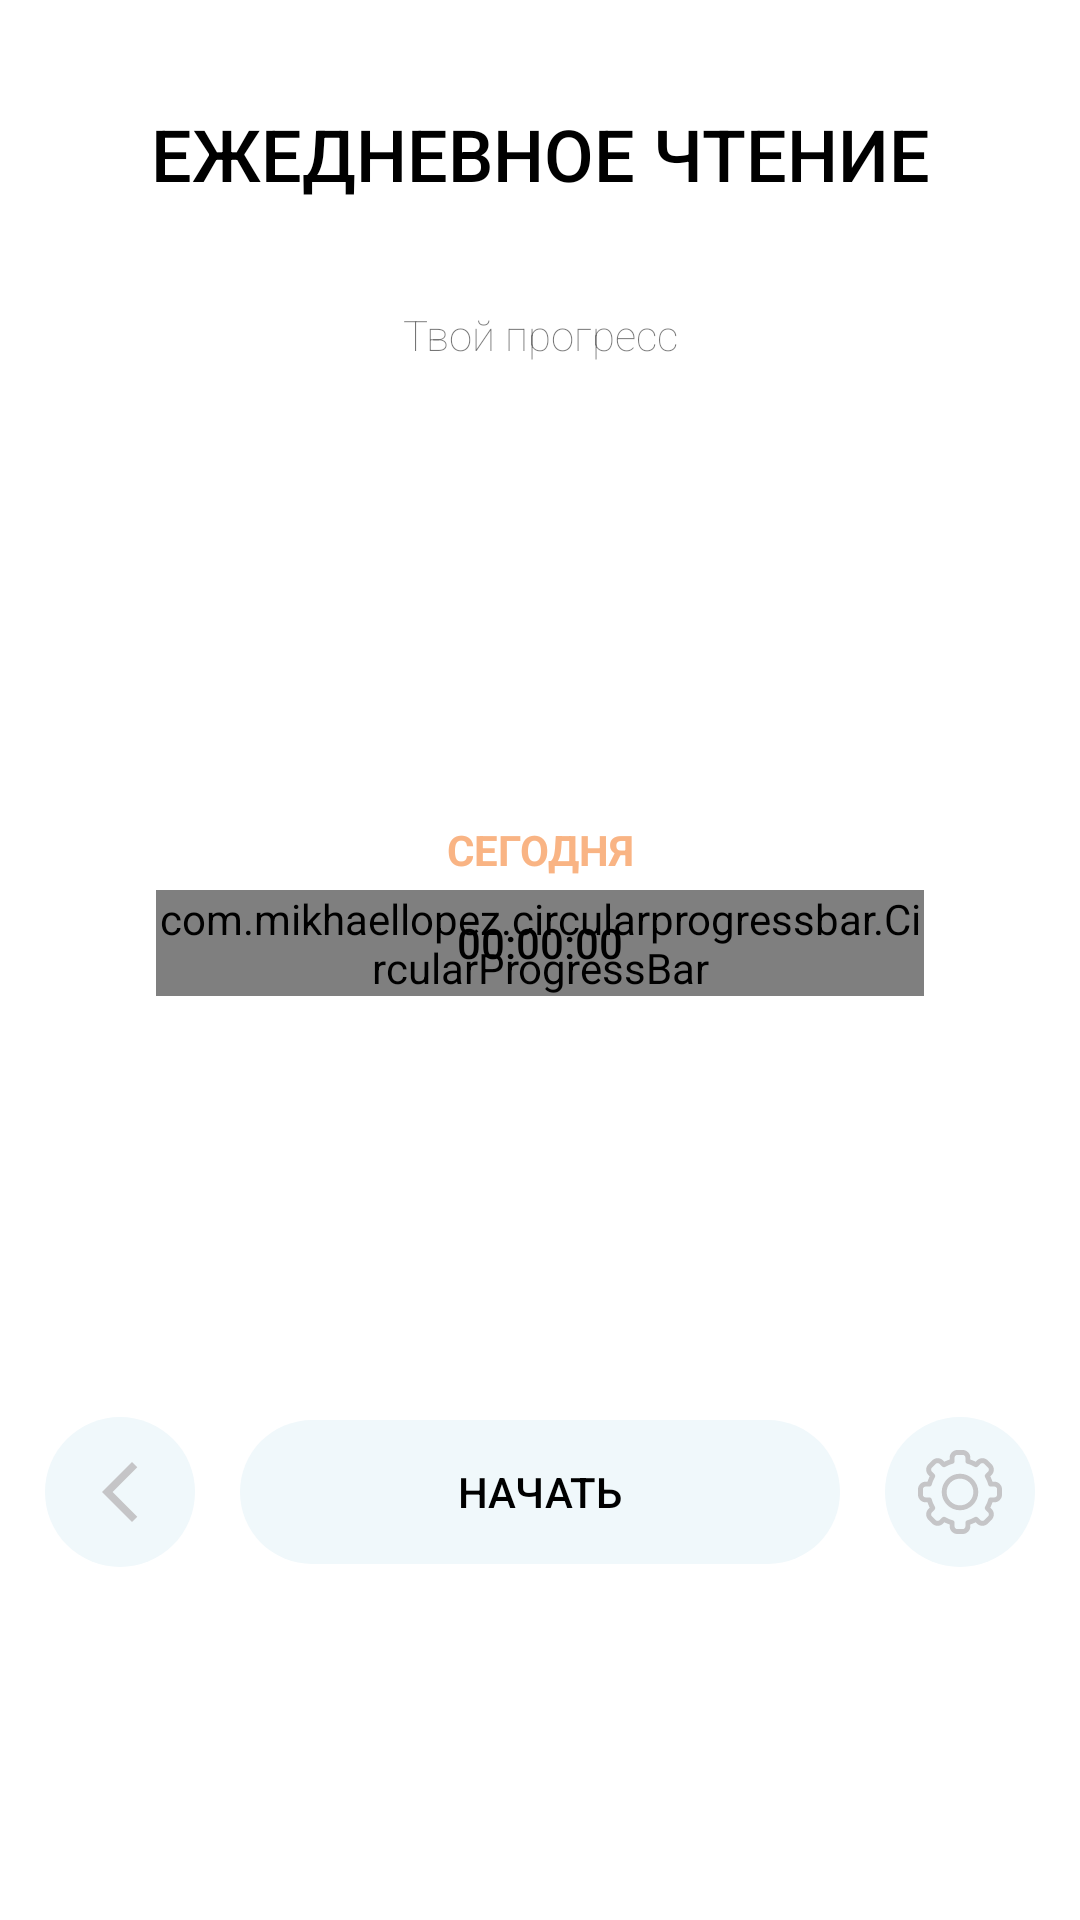

Where to tap for icons on this 1080px×1920px app screen, as [x,y]:
arrow back: [120,1492]
settings: [960,1492]
